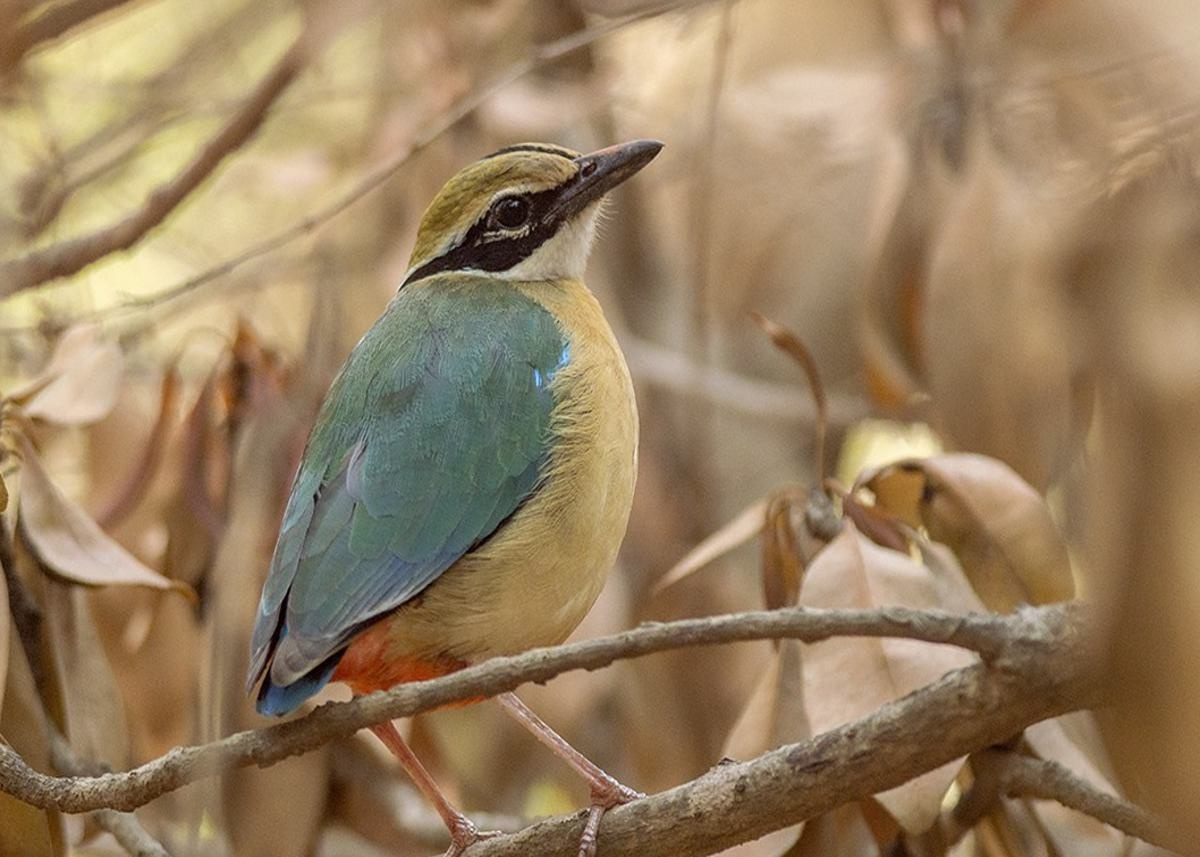pitta: (234, 108, 738, 702)
